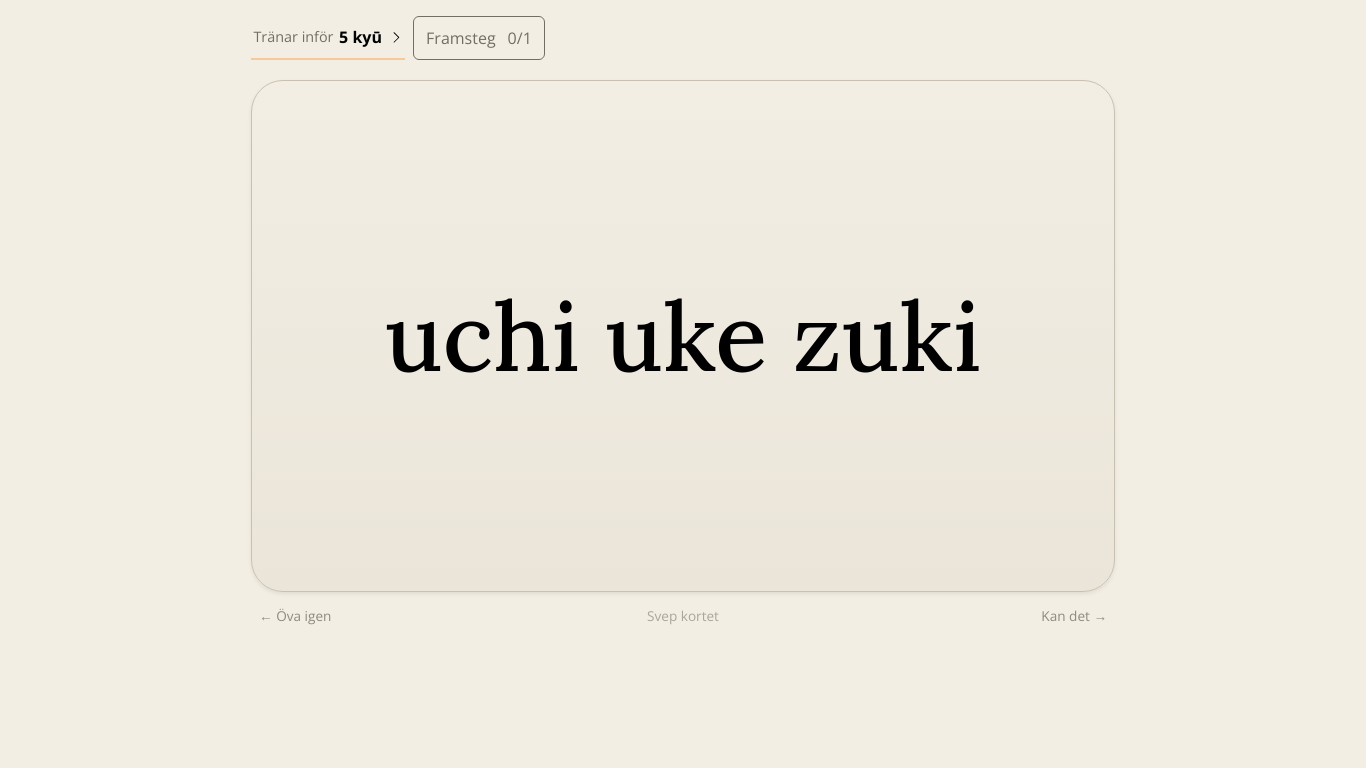
Scenario: opens directly at the user's grade and changes grade through the shared picker
Expected: the heading "uchi uke zuki" is shown, [385,286,981,386]
What coordinates should you click on to do the following:
click the button "Tränar inför 5 kyū"
I would click on:
 (328, 38)
Its box is [251,16,405,60].
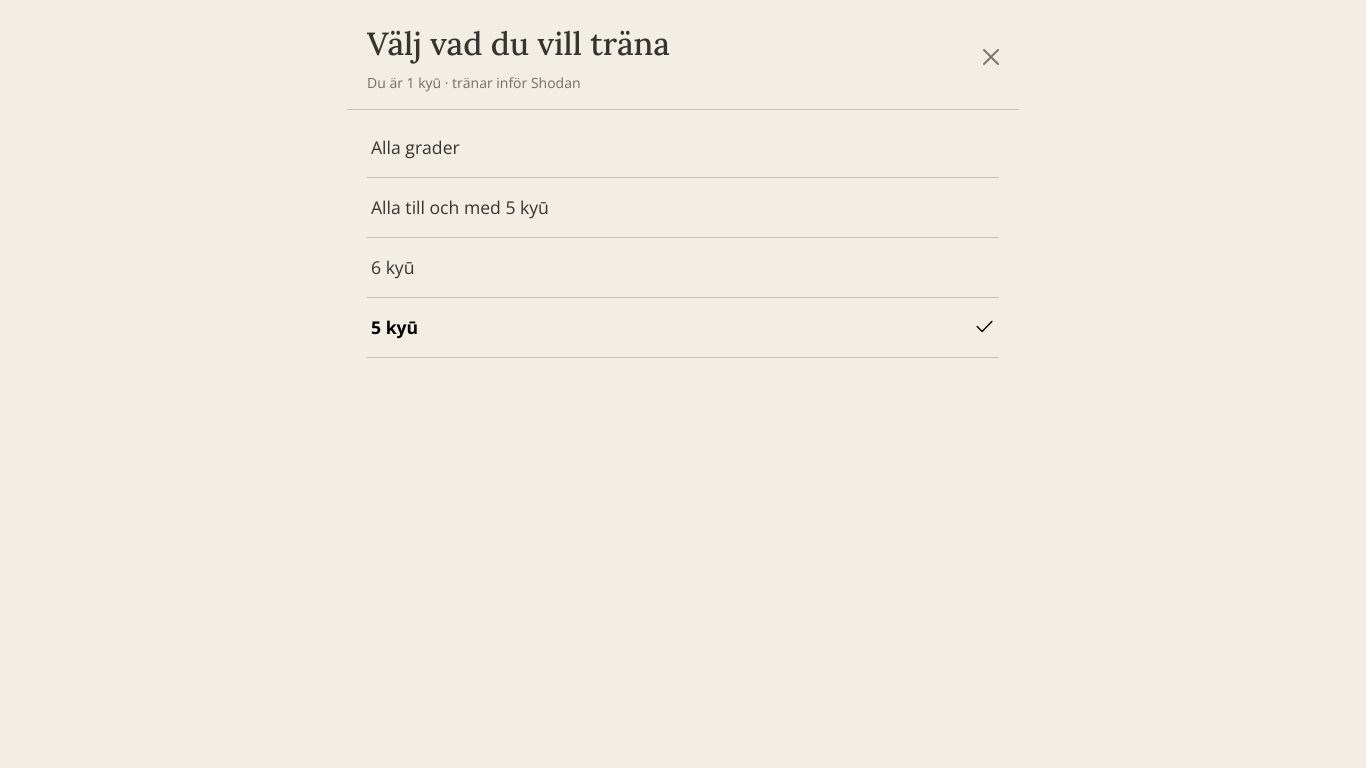
Expected: the button "Framsteg 0/1" is shown, [413,16,545,60]
Now the button "Alla grader" is shown, box [367,118,999,178]
Now the button "Alla till och med 5 kyū" is shown, box [367,178,999,238]
What coordinates should you click on to do the following:
click the button "6 kyū"
I would click on:
 (393, 267)
Its box is [367,238,999,298].
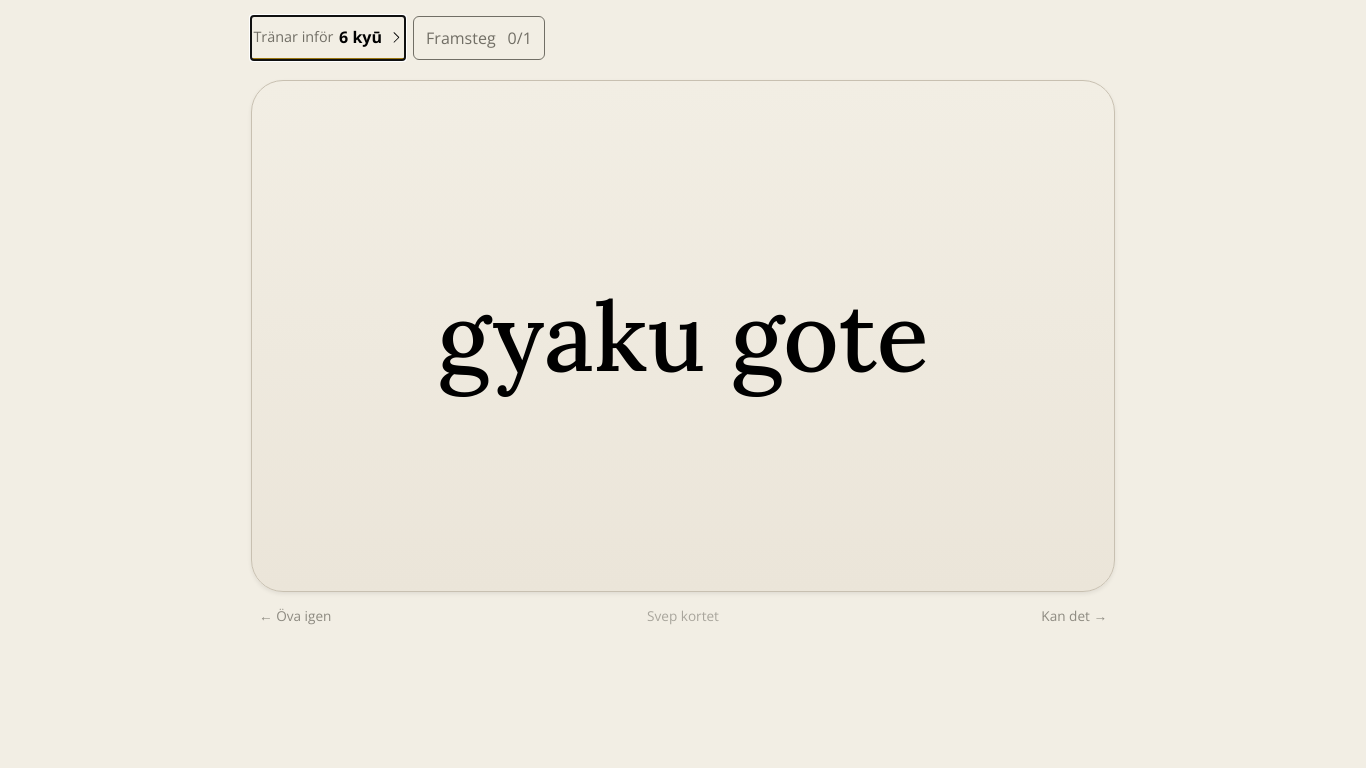
Now the button "Tränar inför 6 kyū" is shown, box [251,16,405,60]
Now the heading "gyaku gote" is shown, box [437,286,929,386]
Now the heading "uchi uke zuki" is gone
